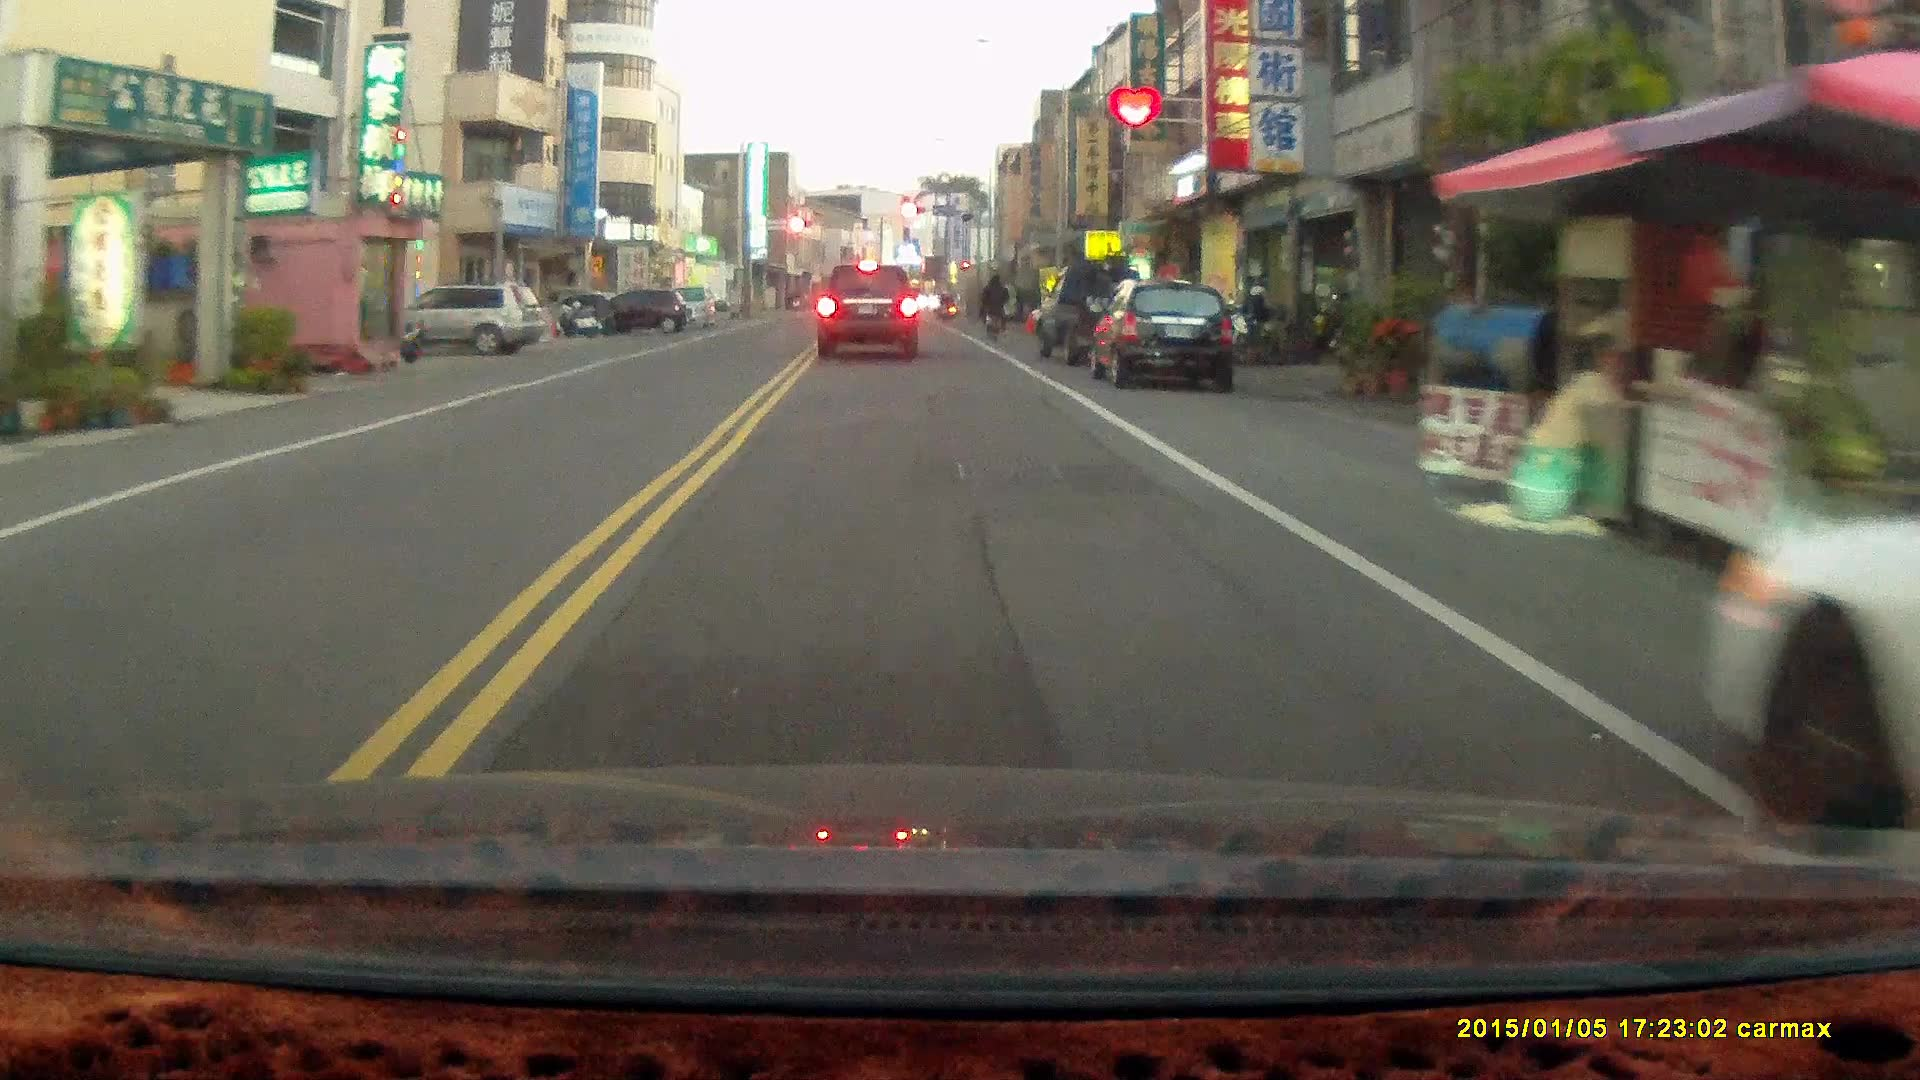rider: (978, 273, 1009, 344)
vehicle: (1093, 281, 1244, 396), (364, 283, 546, 356), (815, 263, 923, 362), (573, 291, 692, 334)
